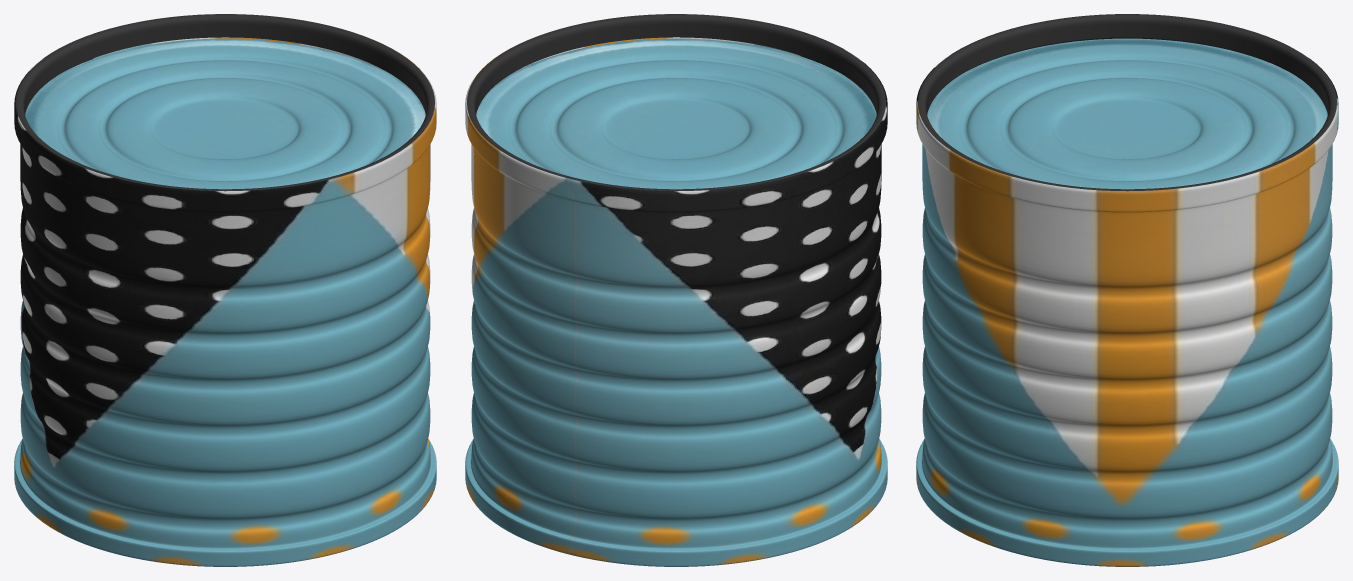
The model's file is CarnivalTinCan.fbx.
3 views of the same model, side by side, from view 1: azimuth 30°, elevation 25°; view 2: azimuth 150°, elevation 25°; view 3: azimuth 270°, elevation 25° (orthographic).
Visible parts, largest first — view 1: Cylinder.001, Circle.001; view 2: Cylinder.001, Circle.001; view 3: Cylinder.001, Circle.001.
Part boxes in pixels (x1=…): Cylinder.001: x1=14, y1=14, x2=436, y2=566; Circle.001: x1=25, y1=38, x2=425, y2=189; Cylinder.001: x1=465, y1=14, x2=887, y2=566; Circle.001: x1=476, y1=38, x2=876, y2=189; Cylinder.001: x1=916, y1=14, x2=1338, y2=566; Circle.001: x1=927, y1=38, x2=1327, y2=189.
Bounding box in the file's own units: 2.04 × 2 × 2.04.
2 materials, 2 textured.
